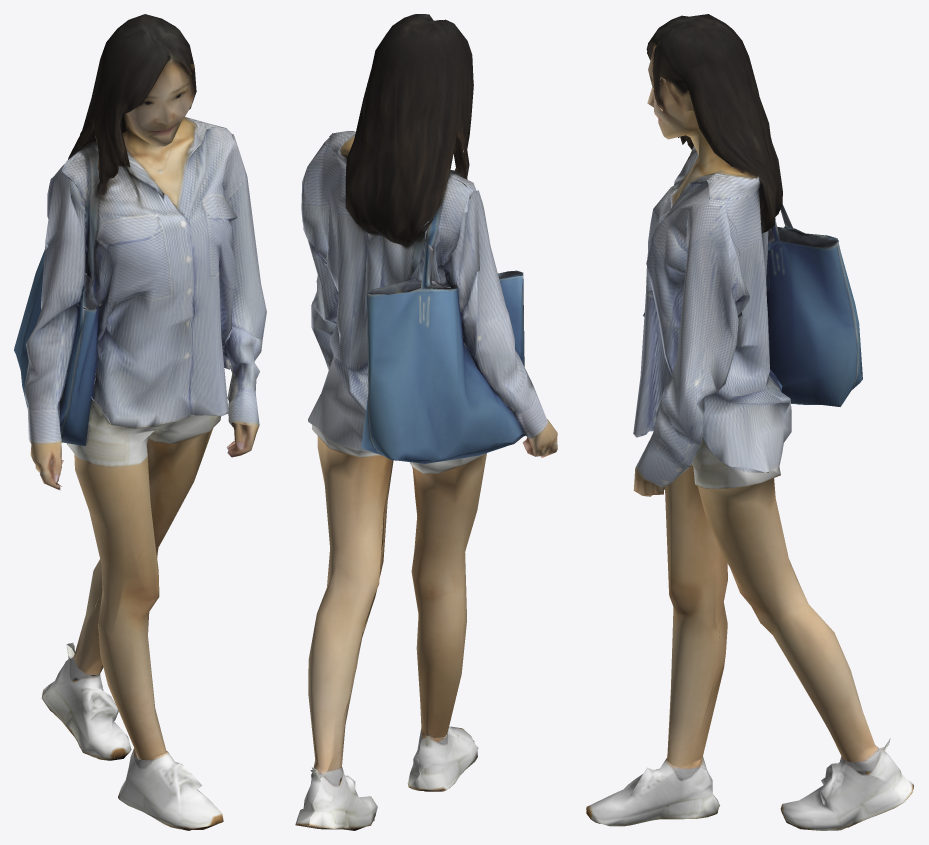
3 renders of one model, left to right at view 1: azimuth 30°, elevation 25°; view 2: azimuth 150°, elevation 25°; view 3: azimuth 270°, elevation 25°, orthographic. The views are drawn at different scales.
Visible parts, largest first — view 1: Object_2; view 2: Object_2; view 3: Object_2.
Part boxes in pixels (bbox=[...]): Object_2: bbox=[14, 14, 266, 830]; Object_2: bbox=[295, 14, 557, 830]; Object_2: bbox=[586, 14, 913, 830].
Size of the model in its own units: 0.5464 by 1.71 by 0.6387.
Materials: 1 (1 with a texture image).
